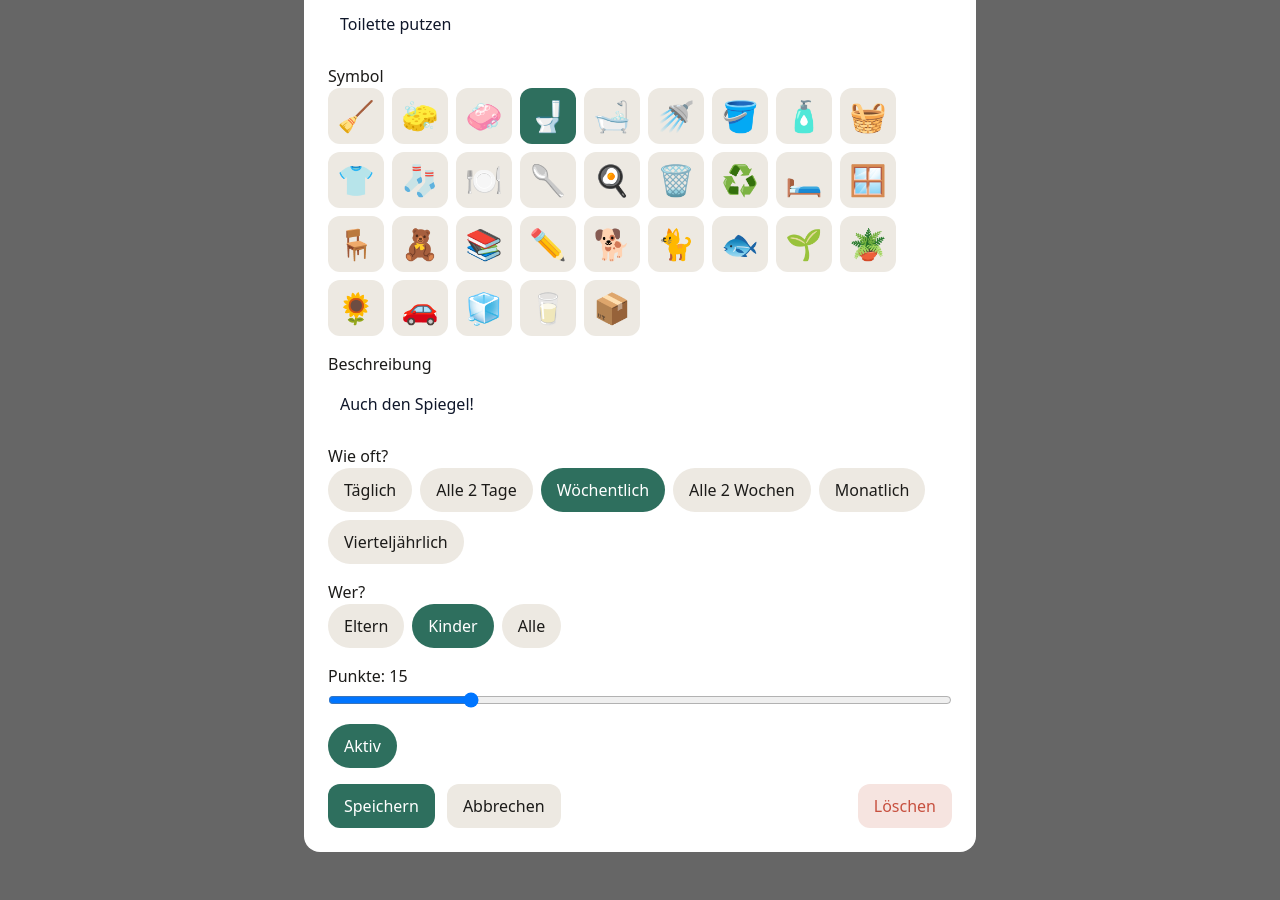
Test: ChoreDialog — Bearbeiten › zeigt bei 400 (erledigte Historie) den Pausier-Hinweis
(page scrolled)
Click the button "Löschen" at (905, 806), box [858,784,952,828]
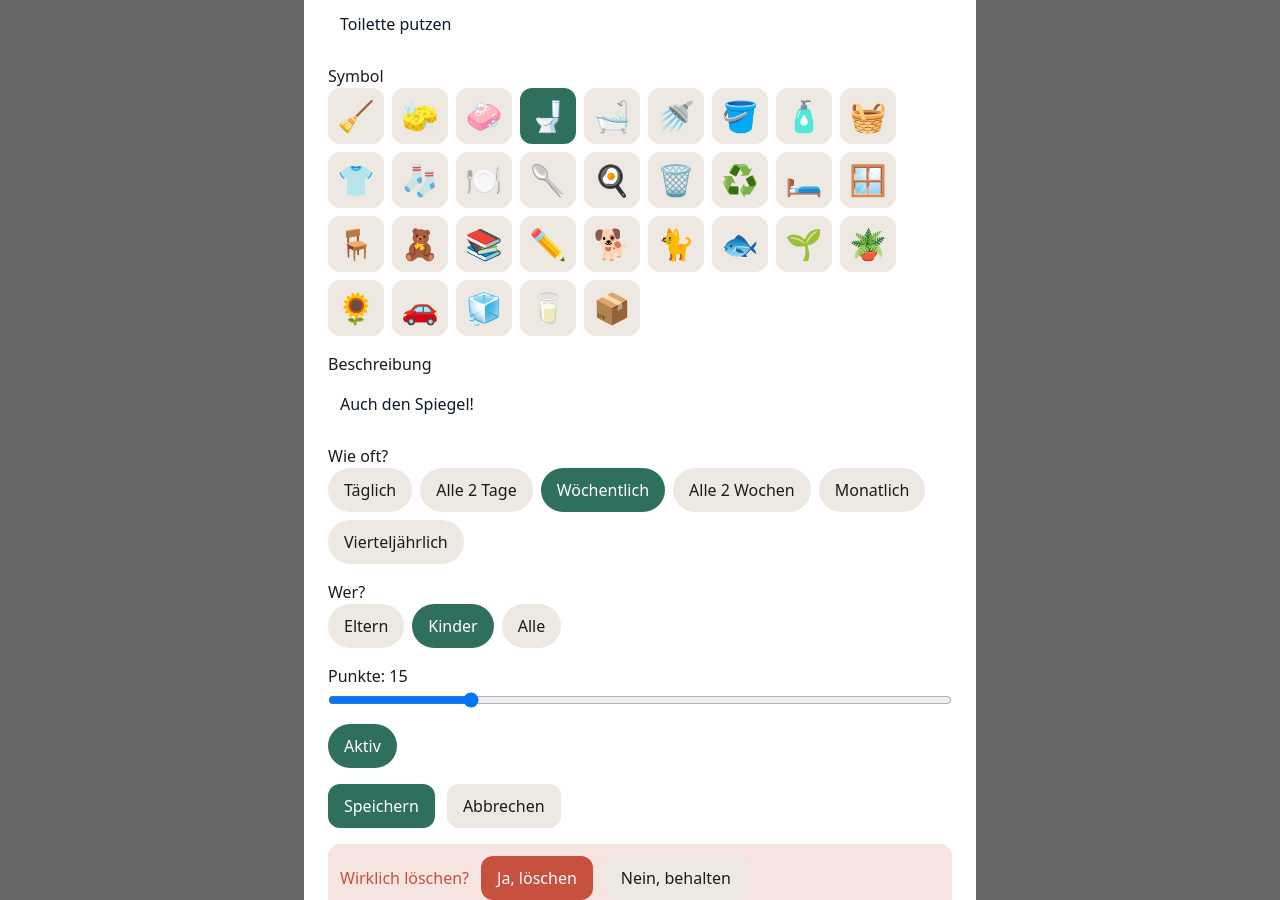
Click the button "Ja, löschen" at (537, 878), box [481,856,593,899]
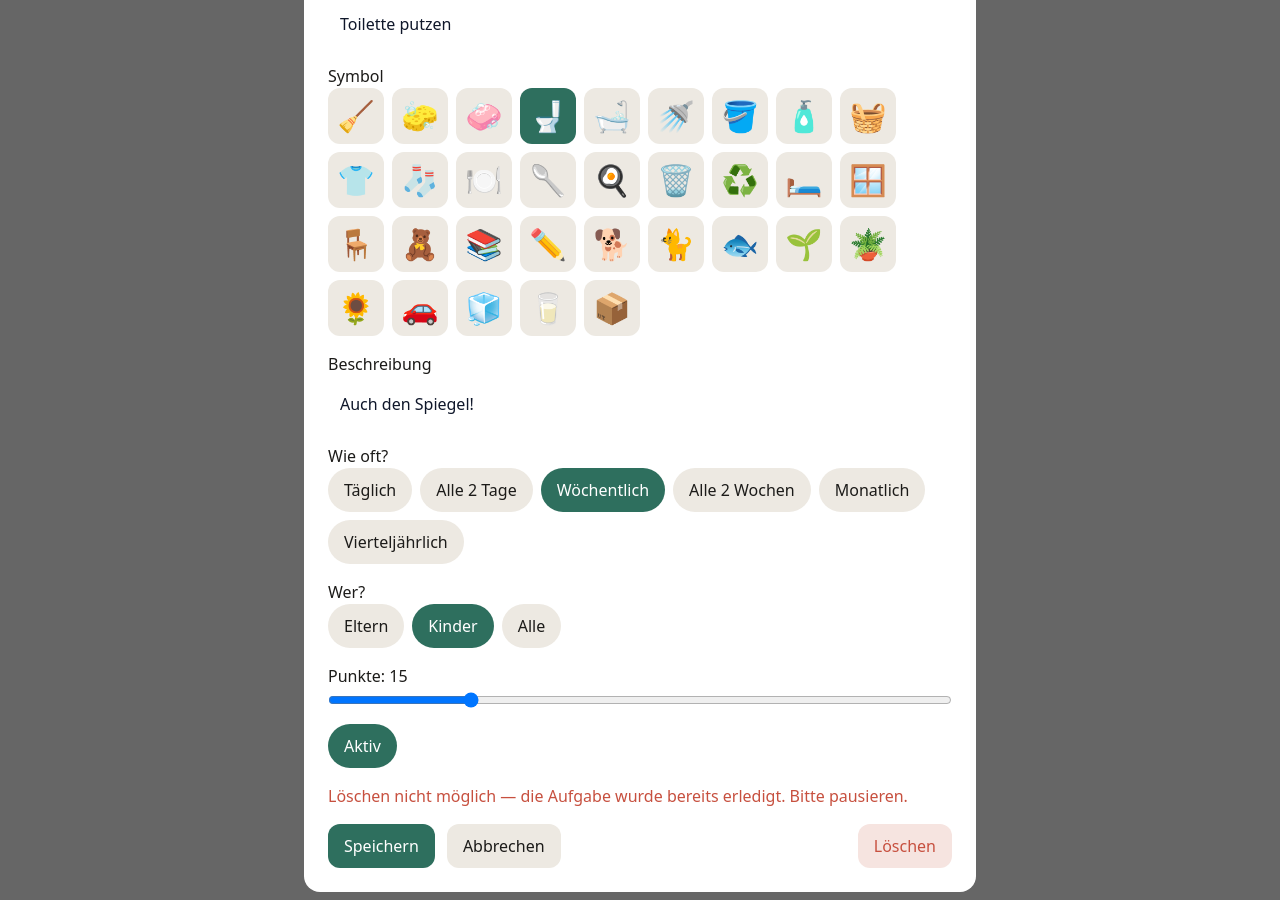
Expected: the text "Löschen nicht möglich — die Aufgabe wurde bereits erledigt. Bitte pausieren." is shown, [328,784,952,808]
